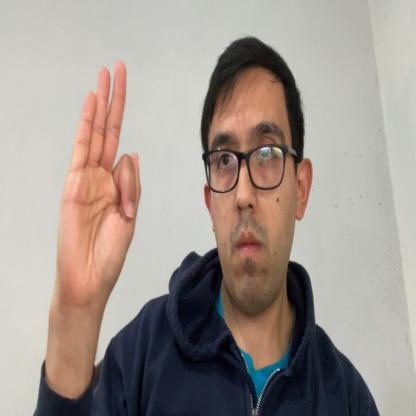F: (56, 59, 141, 302)
